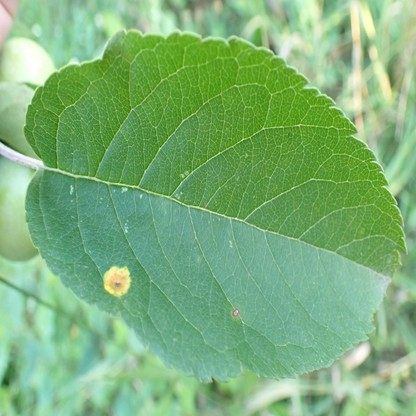rust: (102, 266, 132, 297)
